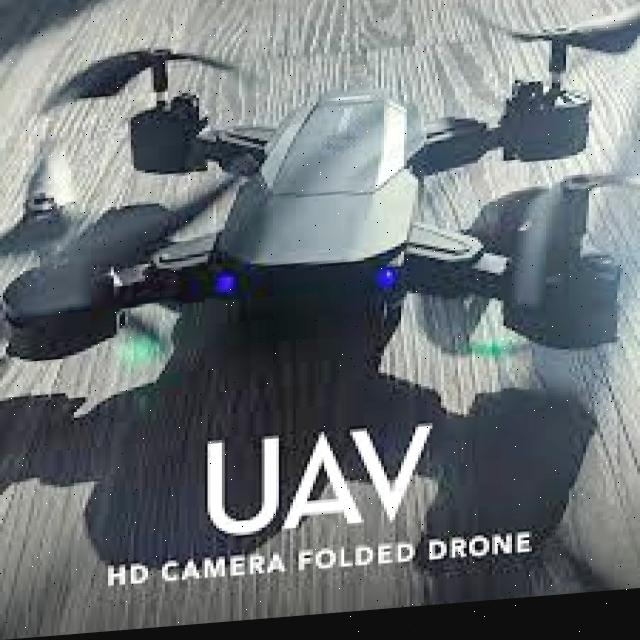drone: (0, 1, 640, 396)
